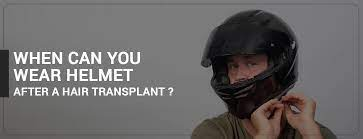helmets: (185, 9, 306, 119)
